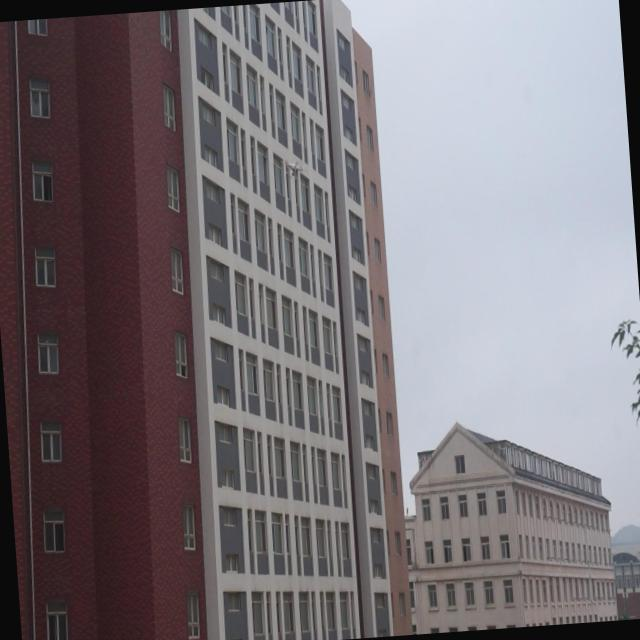drone: (284, 156, 306, 182)
